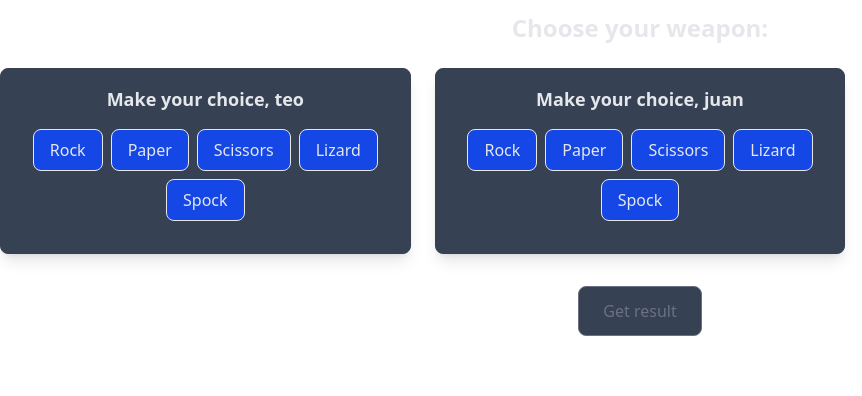
it: Game Component › updates the score after each round
Click the button "Spock" below "teo": [205, 200] box [166,179,245,221]
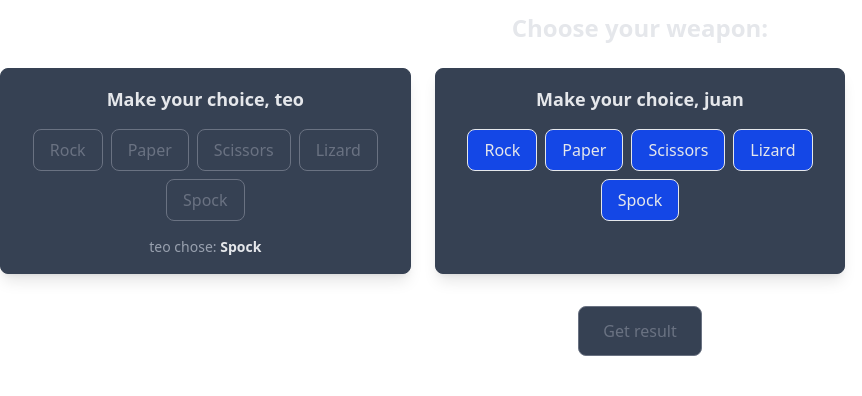
Click the button "Rock" below "juan": [502, 150] box [468,129,537,171]
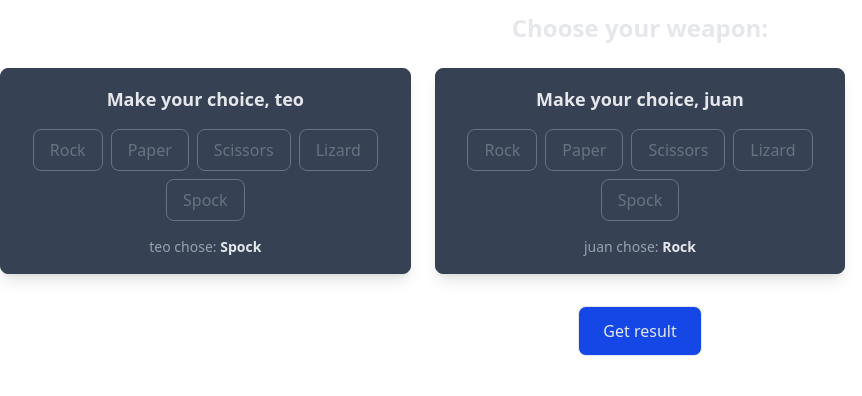
Result: the text "teo chose:" reads "teo chose: Spock" at [149,237,261,257]
Result: the text "juan chose:" reads "juan chose: Rock" at [584,237,696,257]
Click the button "Get result": [640, 331] box [578,306,702,356]
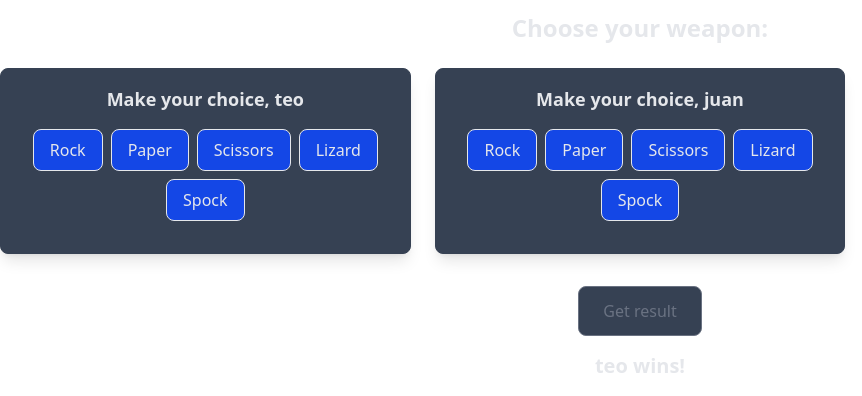
Result: the heading "teo wins!" is shown at [595,352,685,379]
